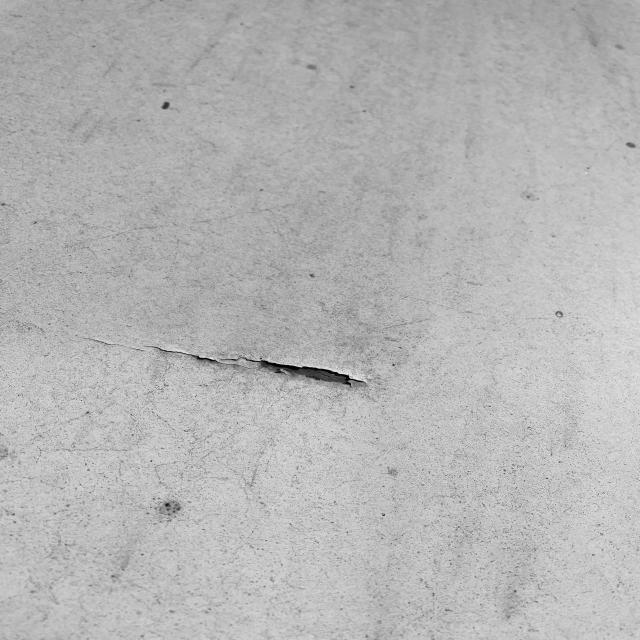crack: (184, 344, 356, 394)
